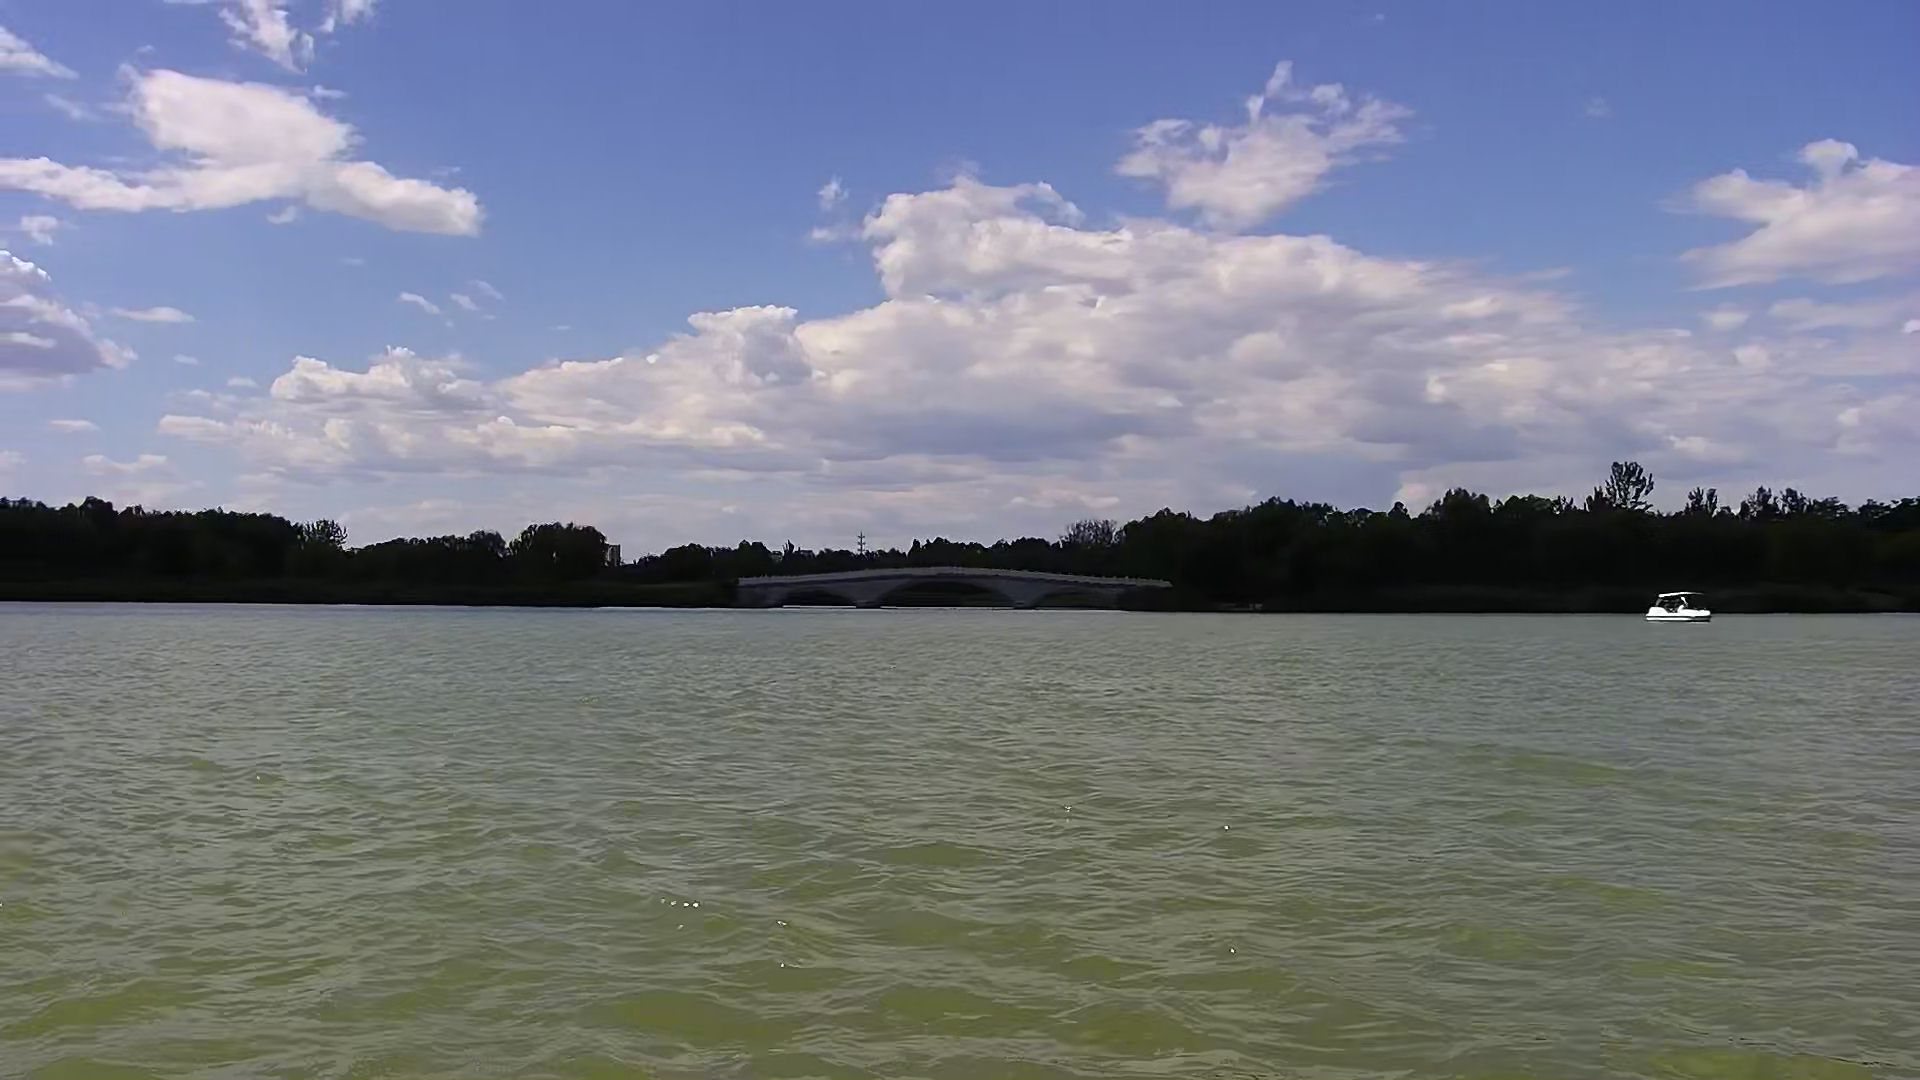boat: (1639, 587, 1718, 625)
bridge: (737, 558, 1153, 613)
